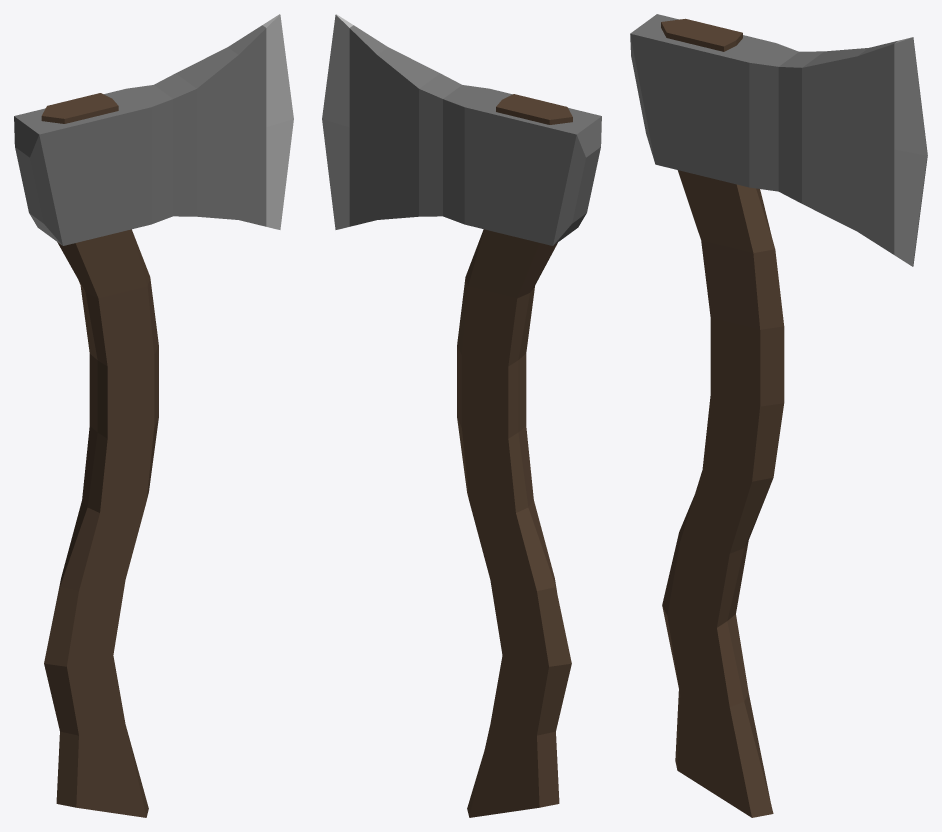
The model's file is Axe.fbx.
3 renders of one model, left to right at view 1: azimuth 30°, elevation 25°; view 2: azimuth 150°, elevation 25°; view 3: azimuth 330°, elevation 25°, orthographic. The views are drawn at different scales.
Parts seen in each view (by area): view 1: Shaft, Head, Axe; view 2: Shaft, Axe, Head; view 3: Shaft, Head, Axe.
Part boxes in pixels (x1,y1,x2,y2): Shaft: (41, 93, 158, 817); Head: (14, 14, 293, 245); Axe: (14, 14, 279, 245); Shaft: (457, 94, 572, 817); Axe: (322, 14, 601, 245); Head: (324, 14, 601, 245); Shaft: (661, 18, 784, 817); Head: (630, 14, 927, 266); Axe: (735, 37, 927, 266).
Size of the model in its own units: 2.82 by 17.48 by 46.93.
